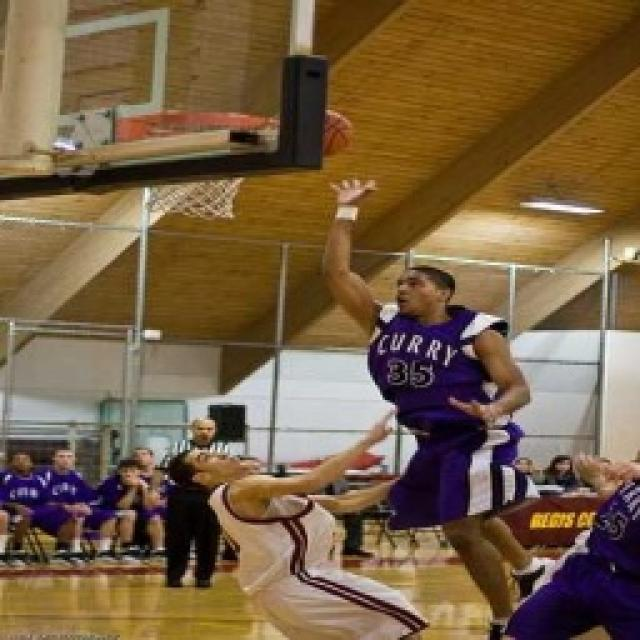rim: (297, 101, 359, 159)
